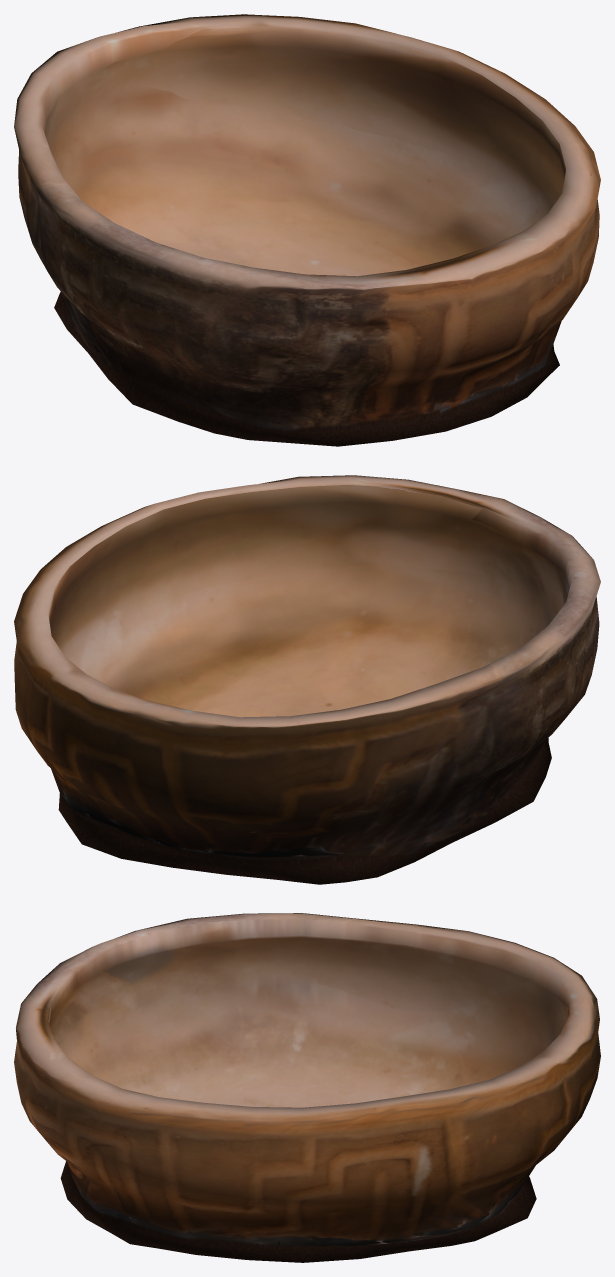
File: cuenco tipo 3.fbx
3 renders of one model, top to bottom at view 1: azimuth 30°, elevation 25°; view 2: azimuth 150°, elevation 25°; view 3: azimuth 270°, elevation 25°, orthographic. The views are drawn at different scales.
Parts seen in each view (by area): view 1: cuenco tipo 3; view 2: cuenco tipo 3; view 3: cuenco tipo 3.
Boxes of the visible parts, left/top/right/bottom form: cuenco tipo 3: left=14, top=14, right=600, bottom=446; cuenco tipo 3: left=14, top=475, right=600, bottom=884; cuenco tipo 3: left=14, top=913, right=600, bottom=1262.
Bounding box in the file's own units: 20.03 × 23.77 × 7.37.
Materials: 1 (1 with a texture image).
